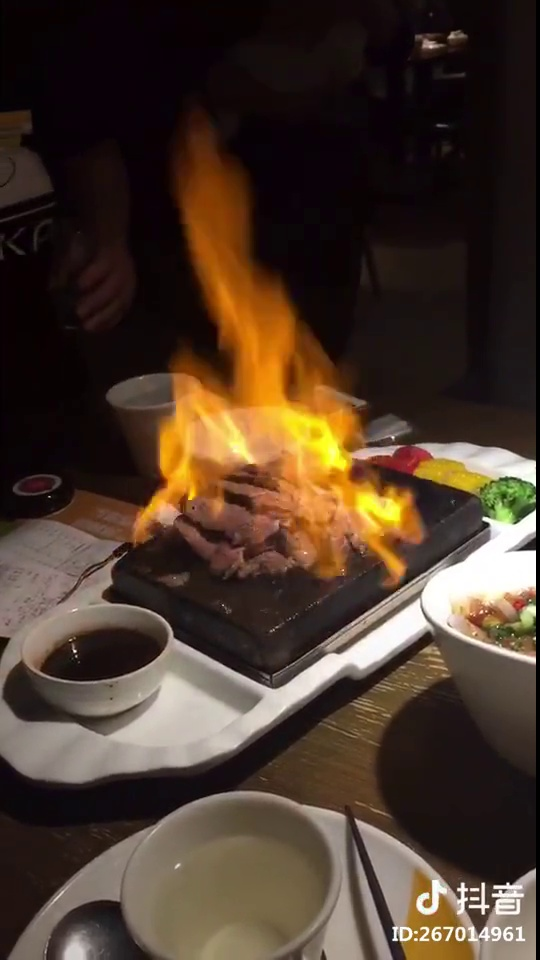fire: (153, 159, 348, 465)
